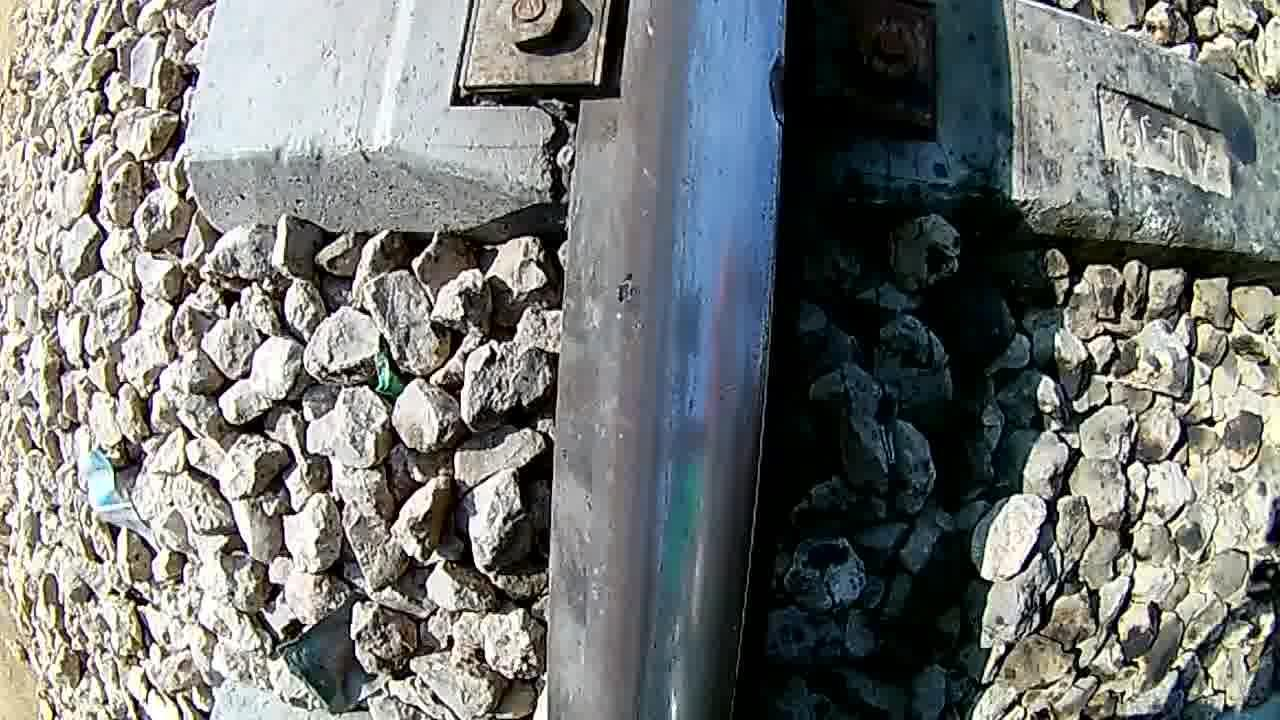crack: (736, 30, 802, 130)
